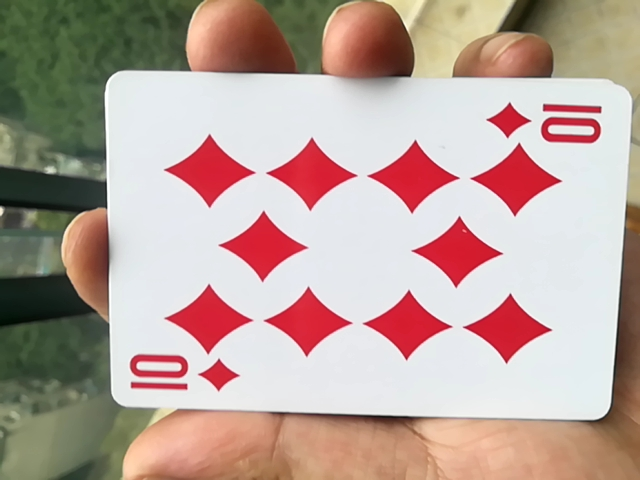fk 10: (86, 98, 637, 439)
